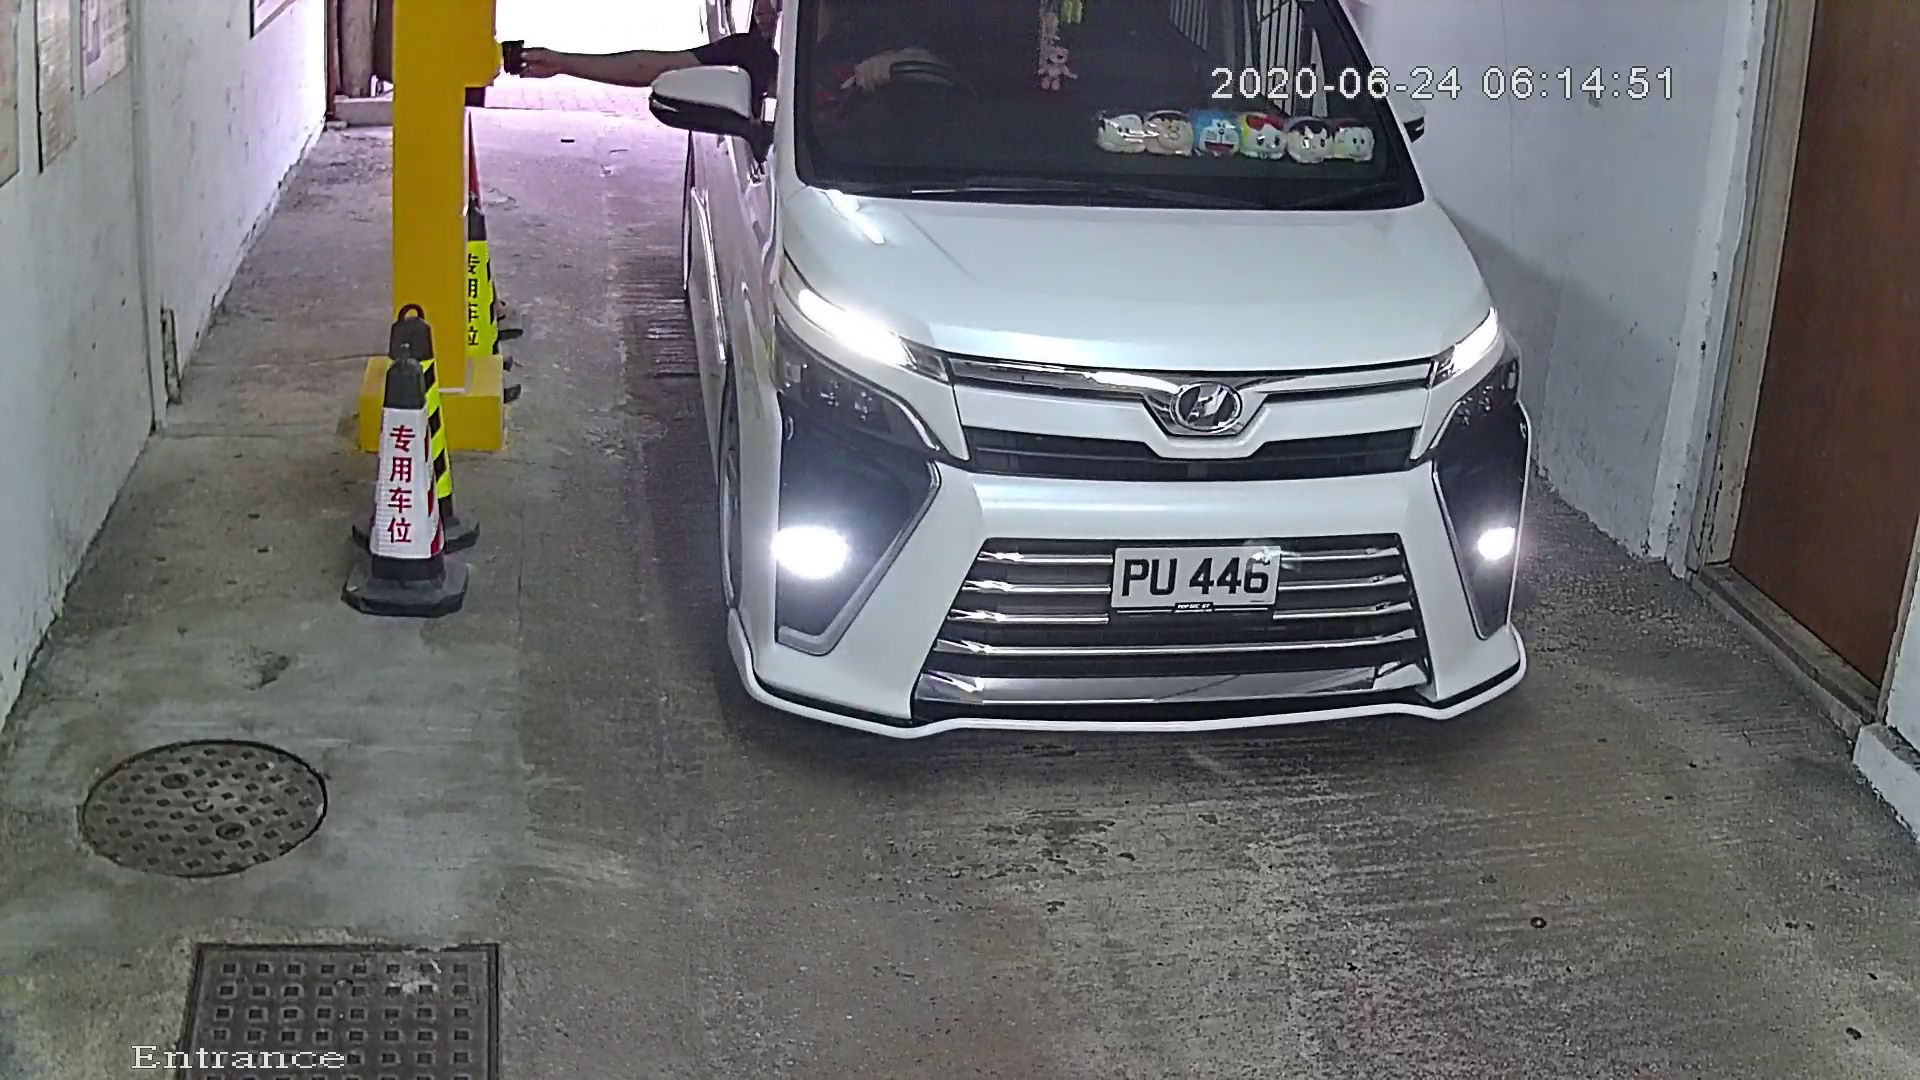privatecar: (659, 1, 1549, 802)
